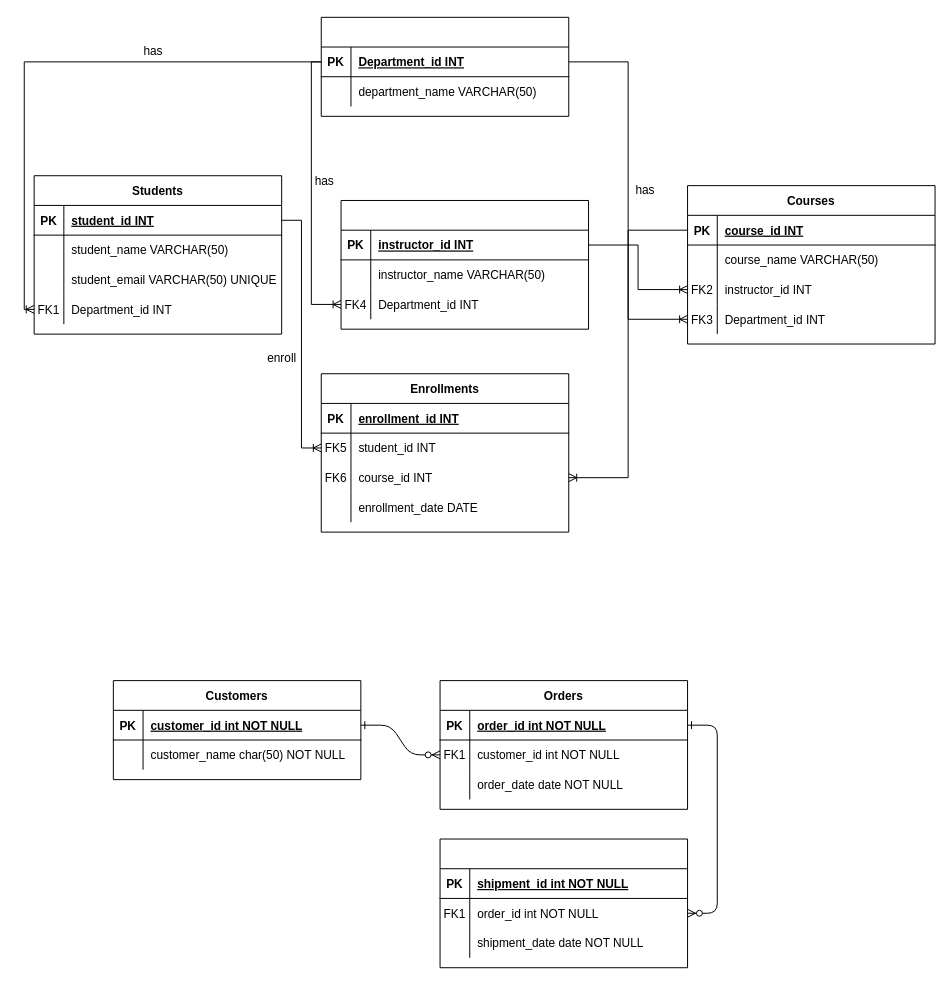
Image size: 952x985. Some labels were removed from this diagram. Here are the shapes that lost their labels. From the top down, the box of each, then its label:
(320, 16, 569, 116): Departments
(340, 199, 589, 329): Instructors
(439, 838, 688, 968): Shipments
